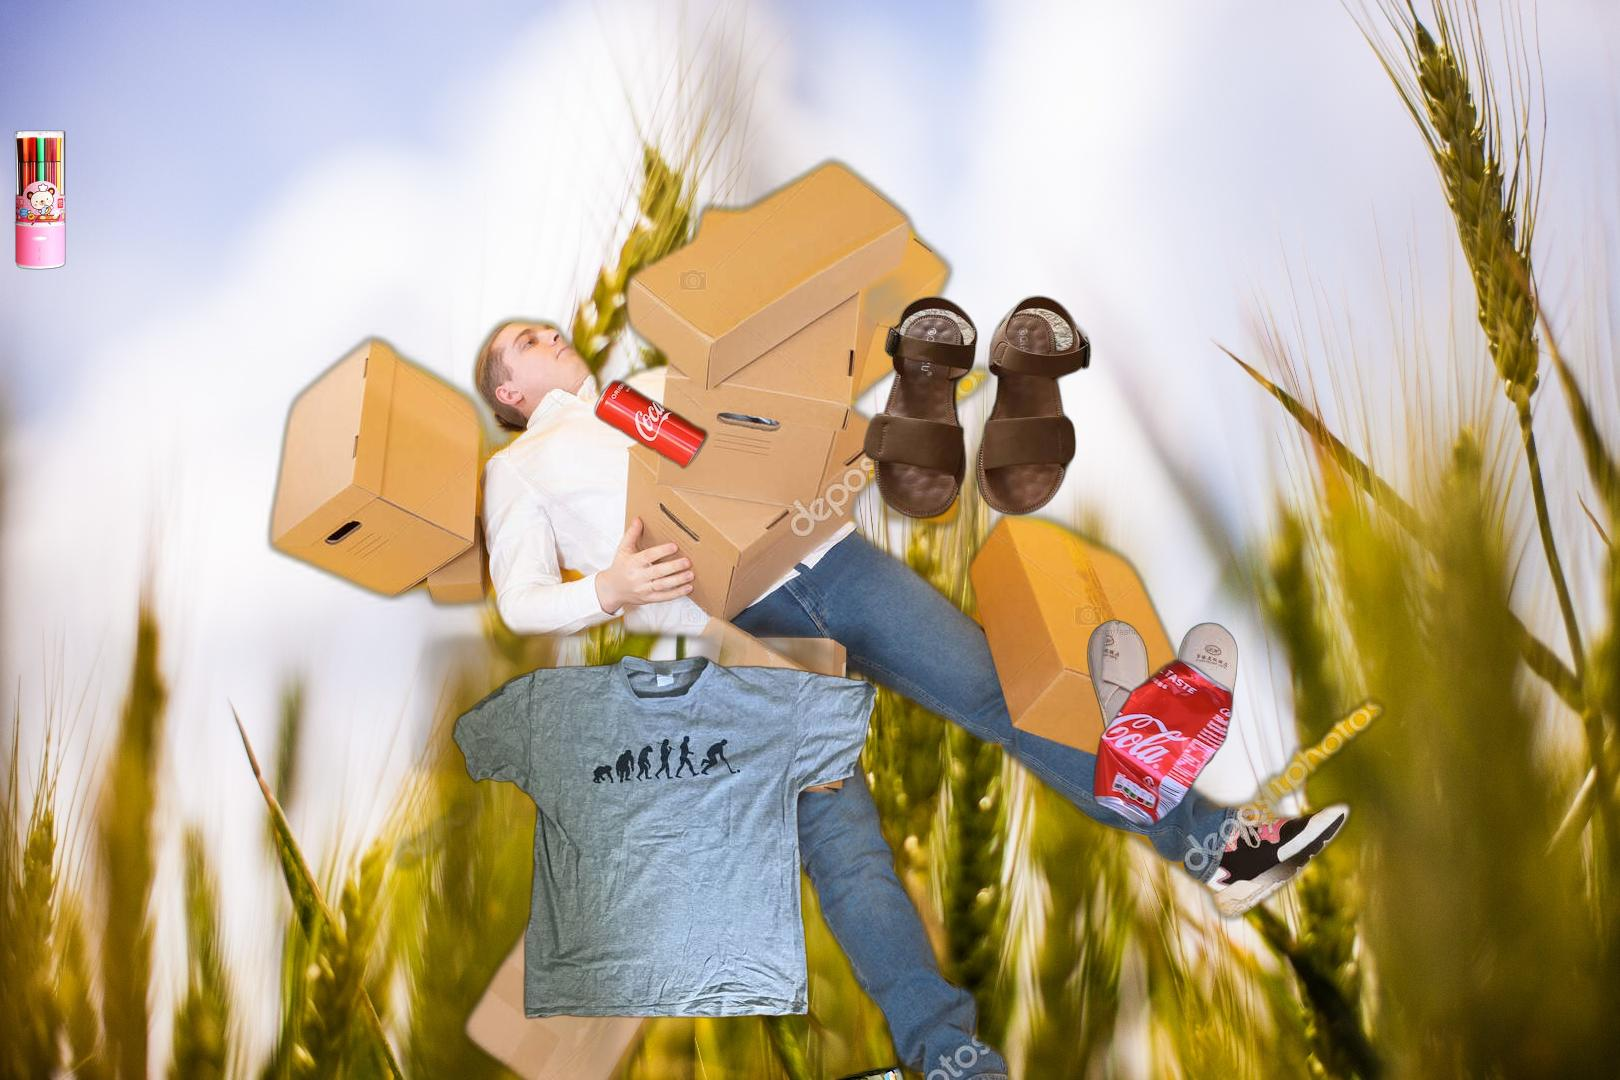clothes: (448, 651, 881, 1022)
glass: (828, 1060, 943, 1080)
metal-cans: (1088, 653, 1238, 833), (589, 374, 712, 474)
penholder: (12, 128, 67, 272)
shoes: (861, 292, 1094, 522), (1085, 617, 1242, 771)
trashbox-cardboard: (258, 146, 1391, 1080)
